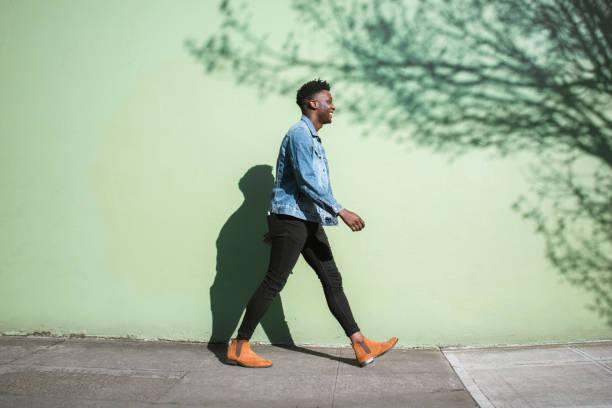jacket: (270, 116, 345, 224)
trousers: (233, 211, 364, 338)
